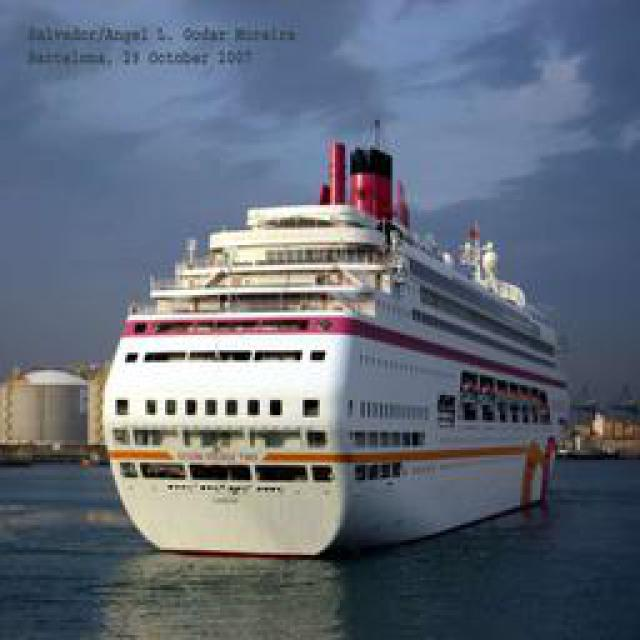Ship: (100, 117, 575, 567)
